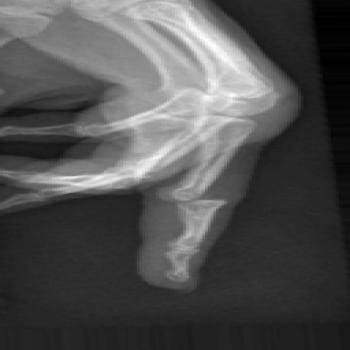Fracture: (148, 187, 232, 209)
